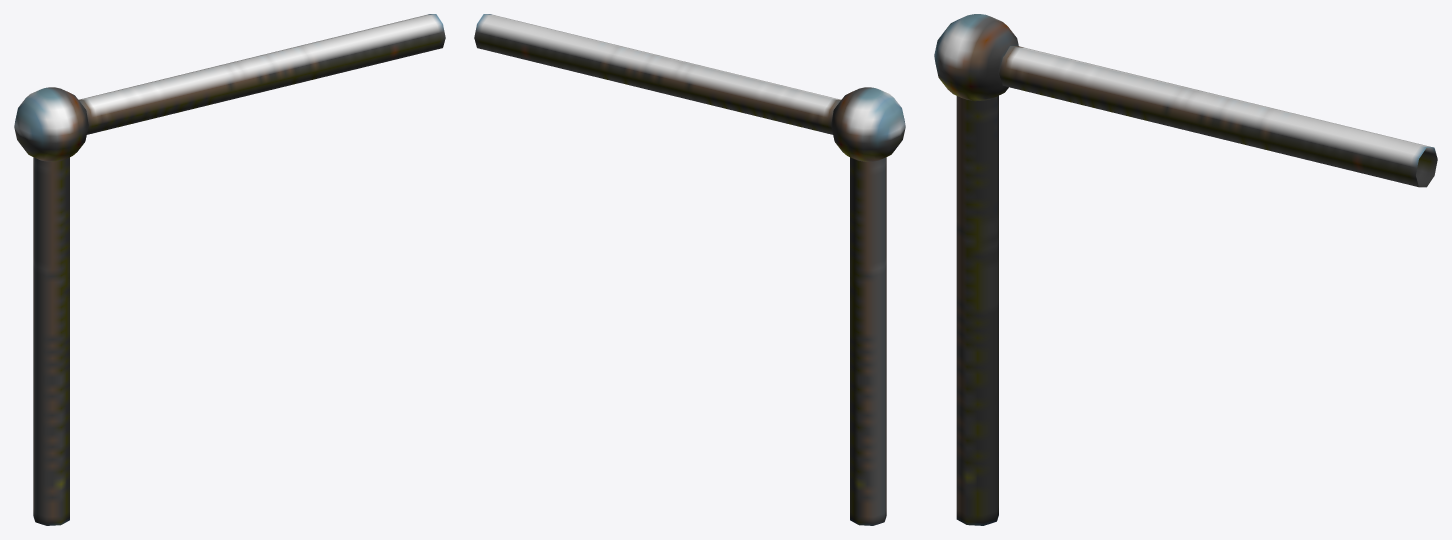
File: rail2.FBX
The picture shows the model from 3 angles, left to right: view 1: azimuth 30°, elevation 25°; view 2: azimuth 150°, elevation 25°; view 3: azimuth 330°, elevation 25°; orthographic projection. The views are drawn at different scales.
Parts seen in each view (by area): view 1: rail2; view 2: rail2; view 3: rail2.
Part boxes in pixels (x1=…): rail2: x1=14, y1=14, x2=445, y2=525; rail2: x1=474, y1=14, x2=905, y2=525; rail2: x1=934, y1=14, x2=1437, y2=525.
Size of the model in its own units: 255 by 40 by 250.
